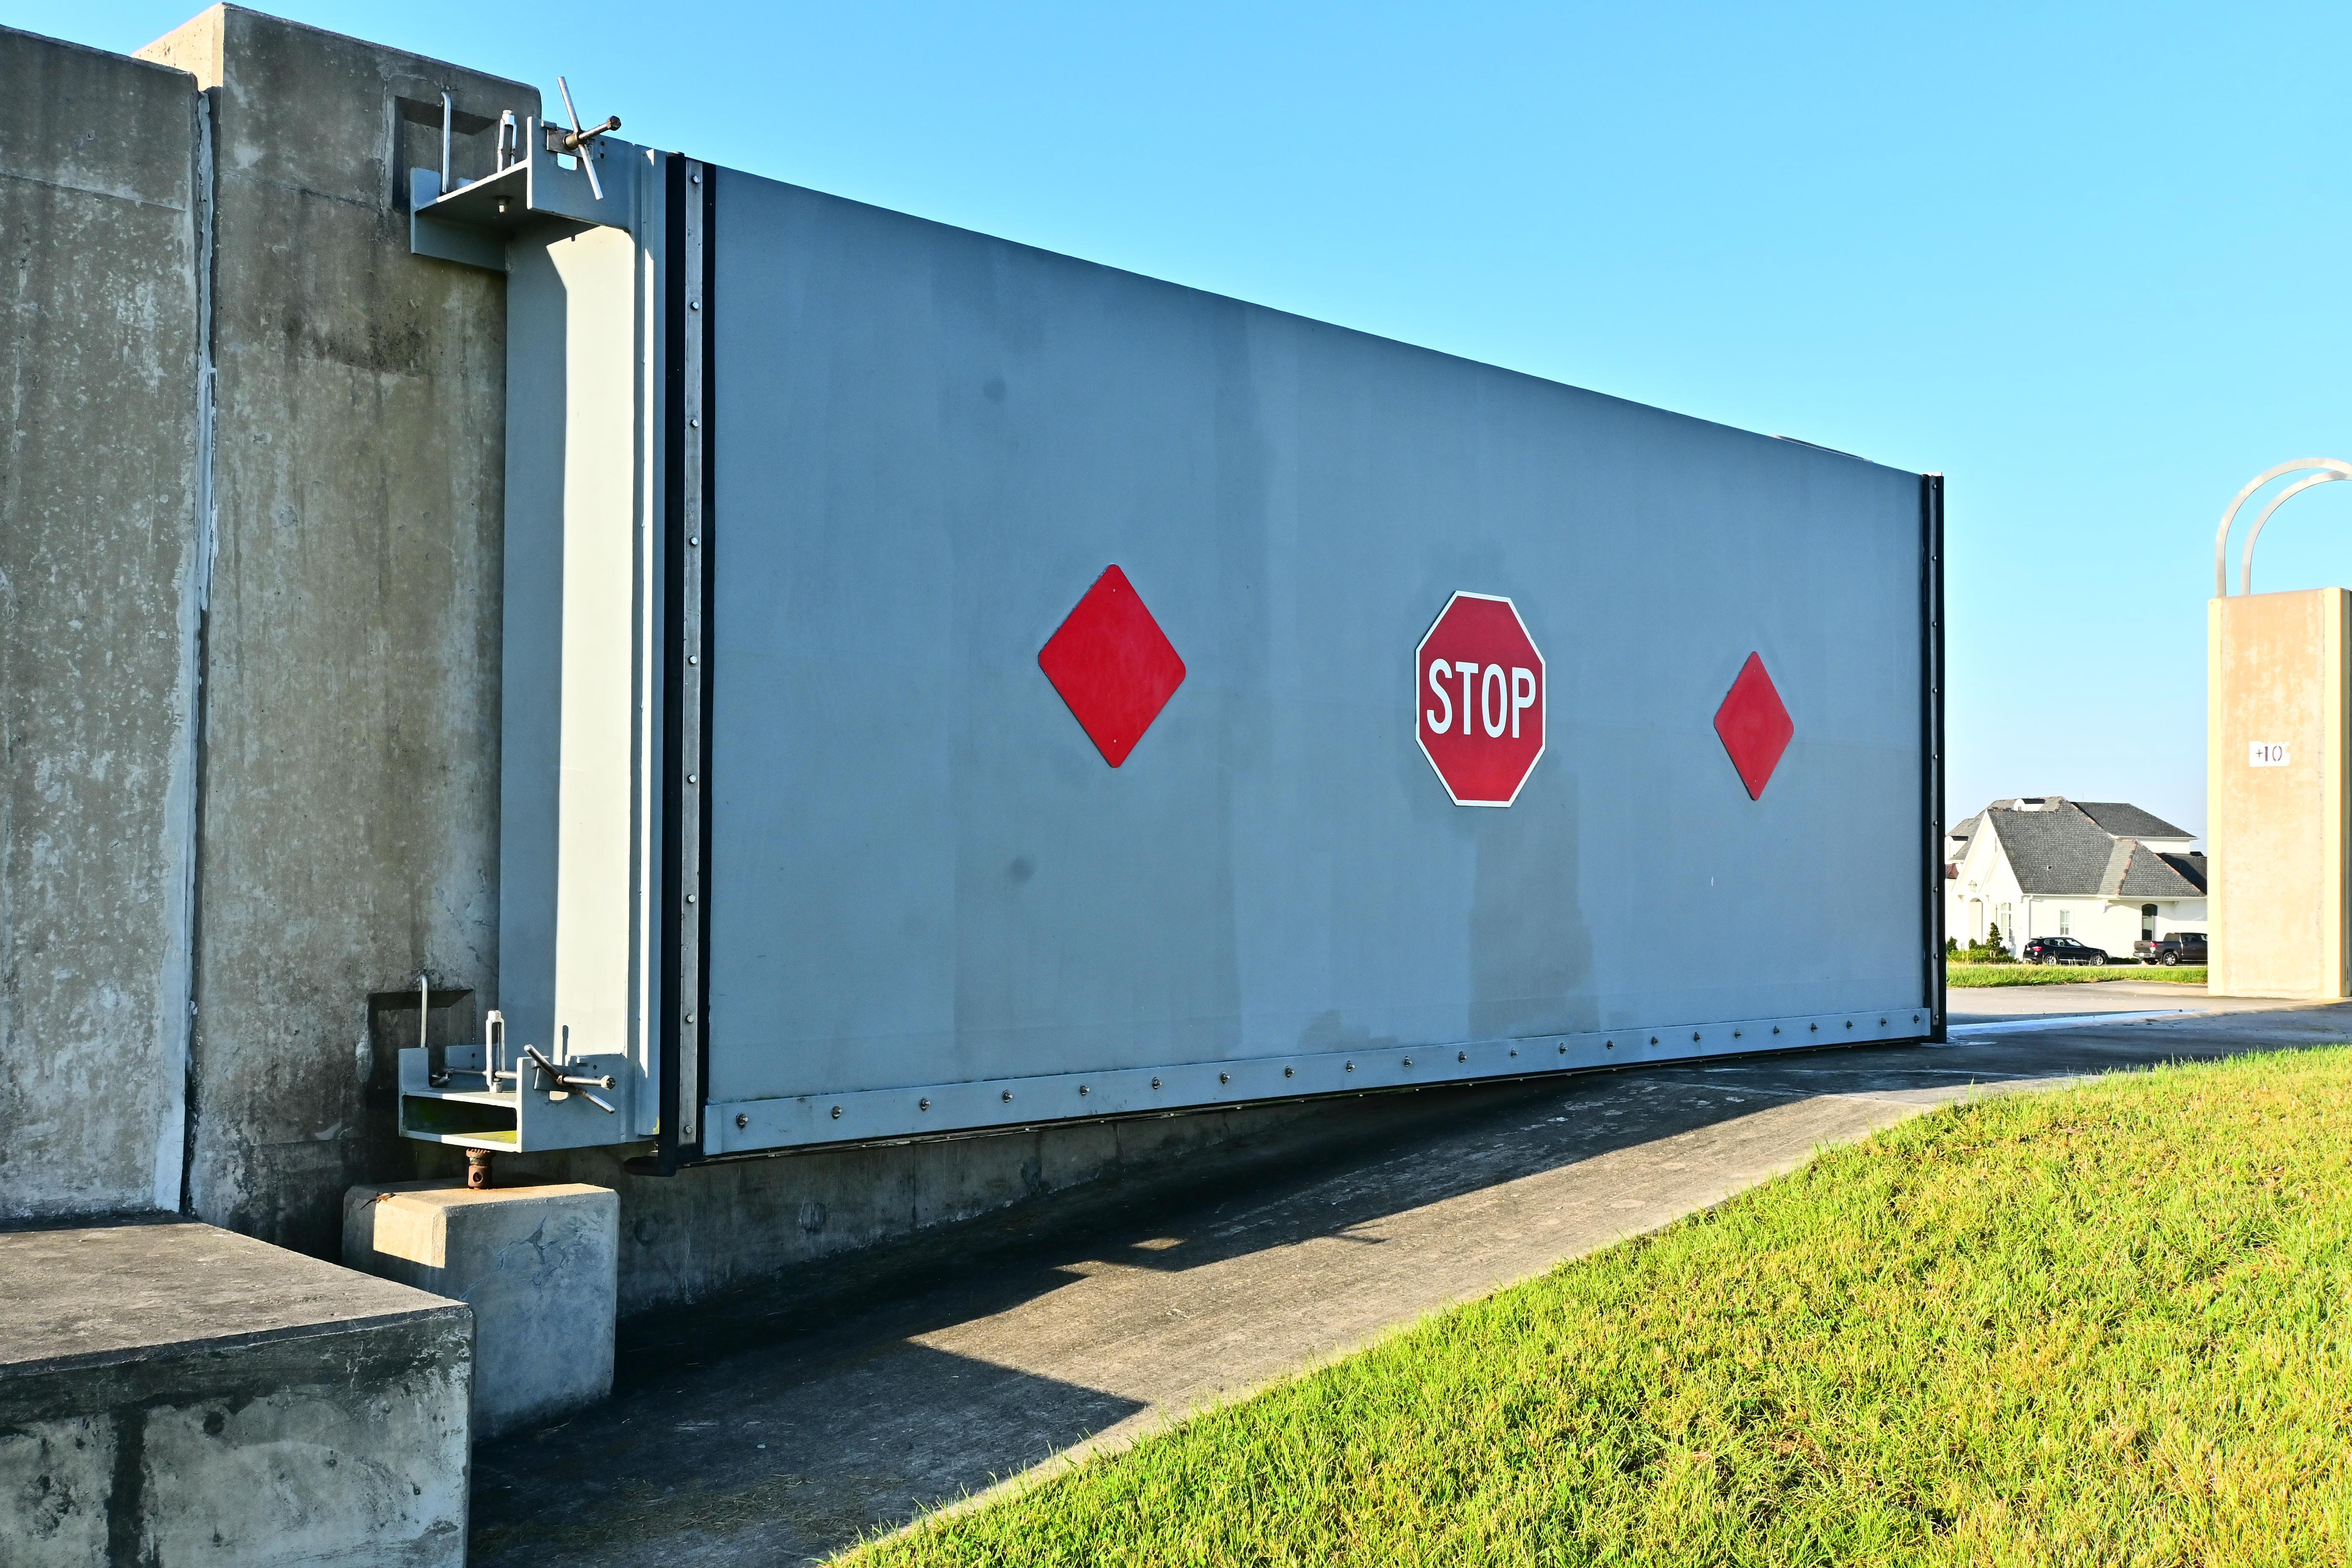affected: (27, 17, 2034, 1473)
